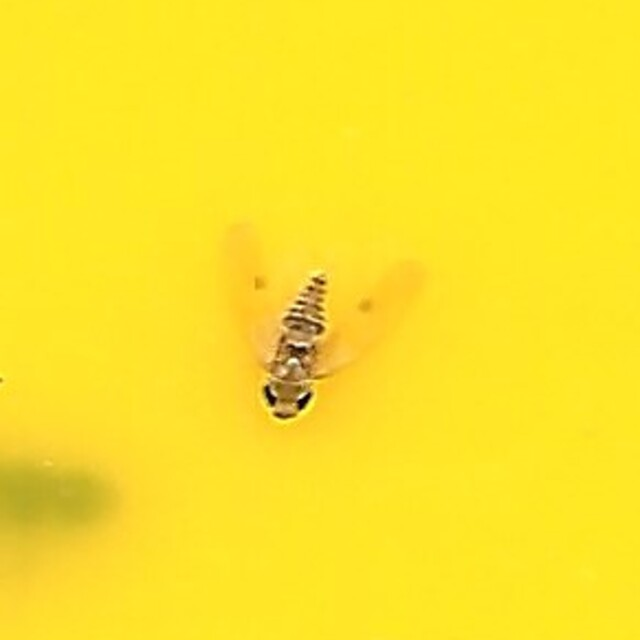Hemiptera: (220, 213, 420, 427)
